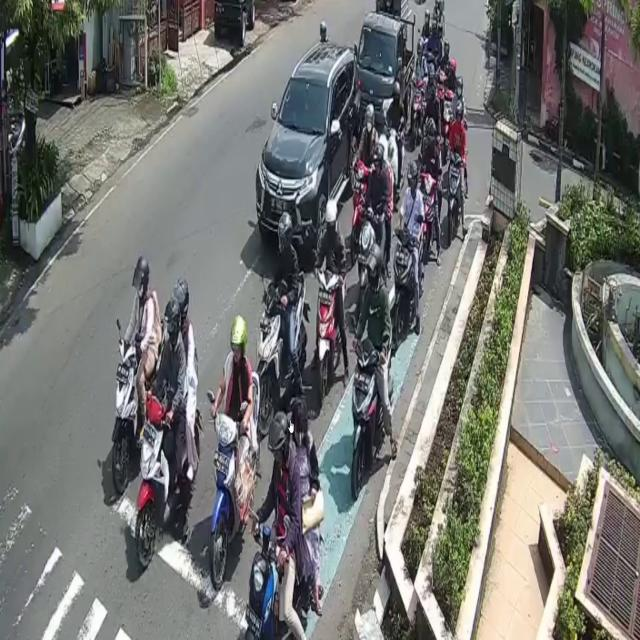bus: (211, 369, 260, 586), (136, 393, 176, 572), (257, 271, 309, 398), (110, 339, 141, 496), (350, 338, 379, 500), (245, 523, 279, 640), (315, 267, 339, 407), (395, 228, 414, 344), (446, 150, 466, 241)
motorcycle: (256, 42, 361, 253), (356, 11, 414, 138)
